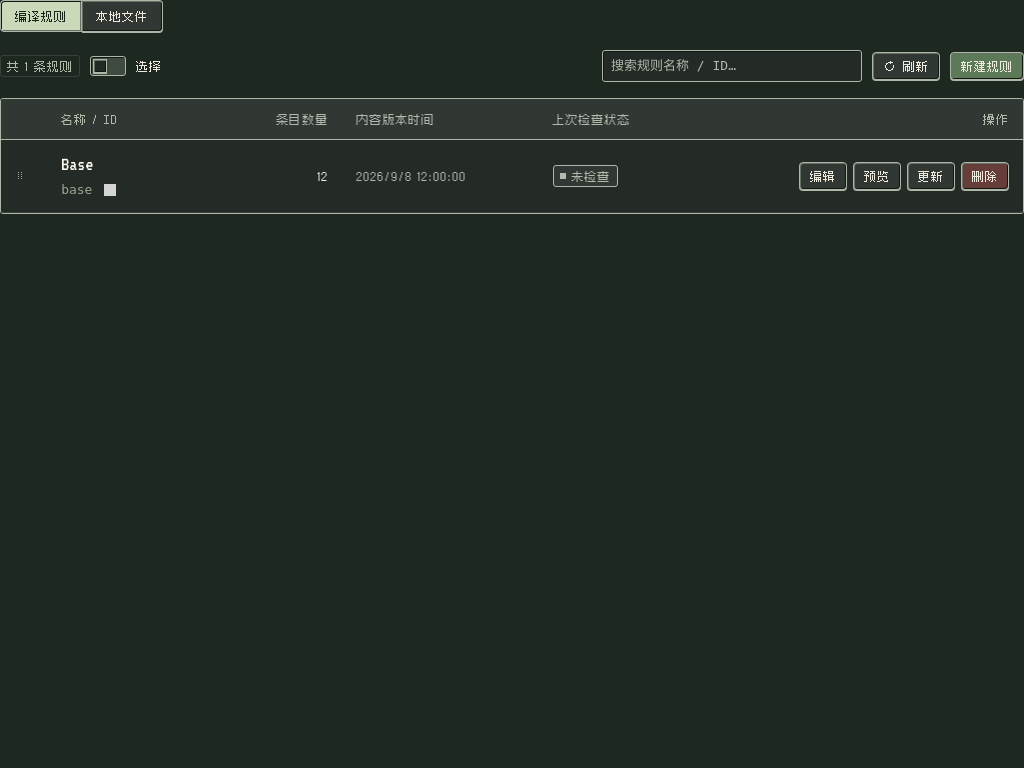
Scenario: RulesView › preserves preprocess and tags when updating a rule
The image size is (1024, 768).
Step 1. Click the button "编辑" → (823, 176), box [799,162,847,190]
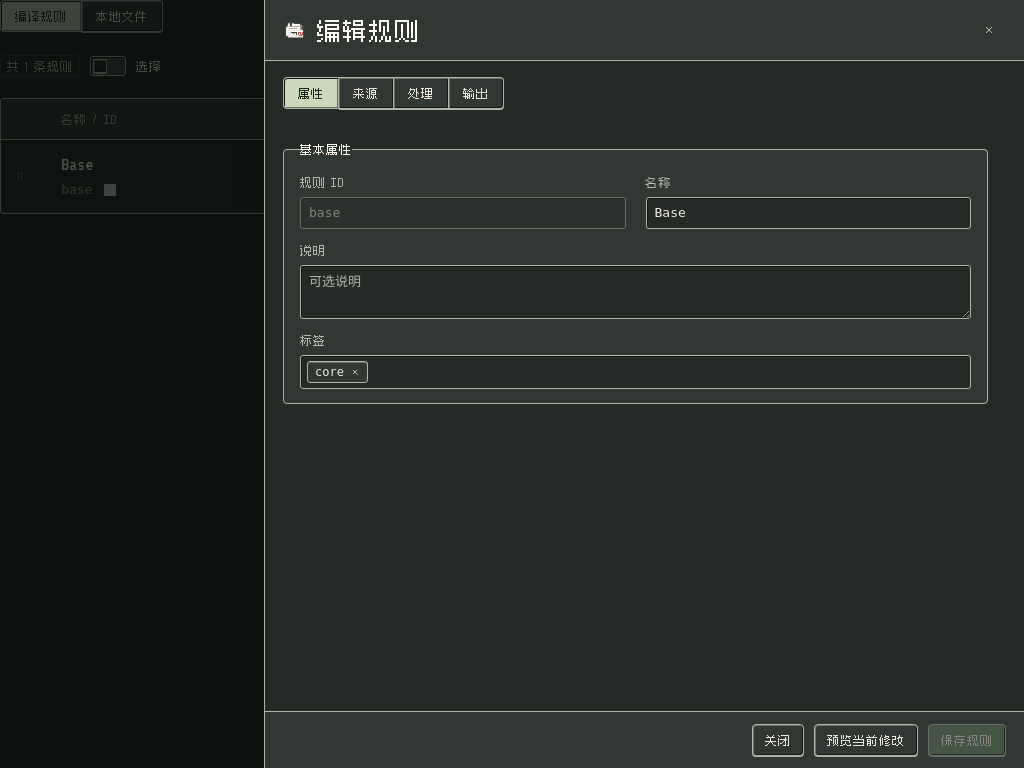
Step 2. Replace the text in the field labelled "名称" with "Base Updated" → (808, 213), box [646,197,971,229]
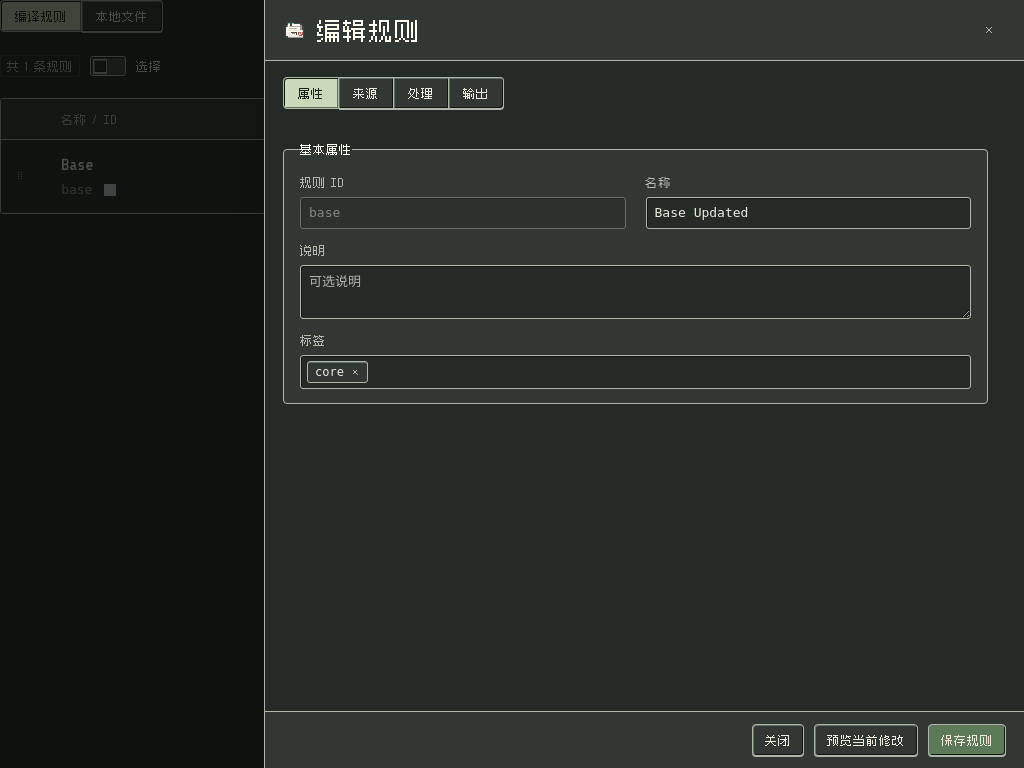
Step 3. Click the button "保存规则" → (967, 740), box [928,724,1006,756]
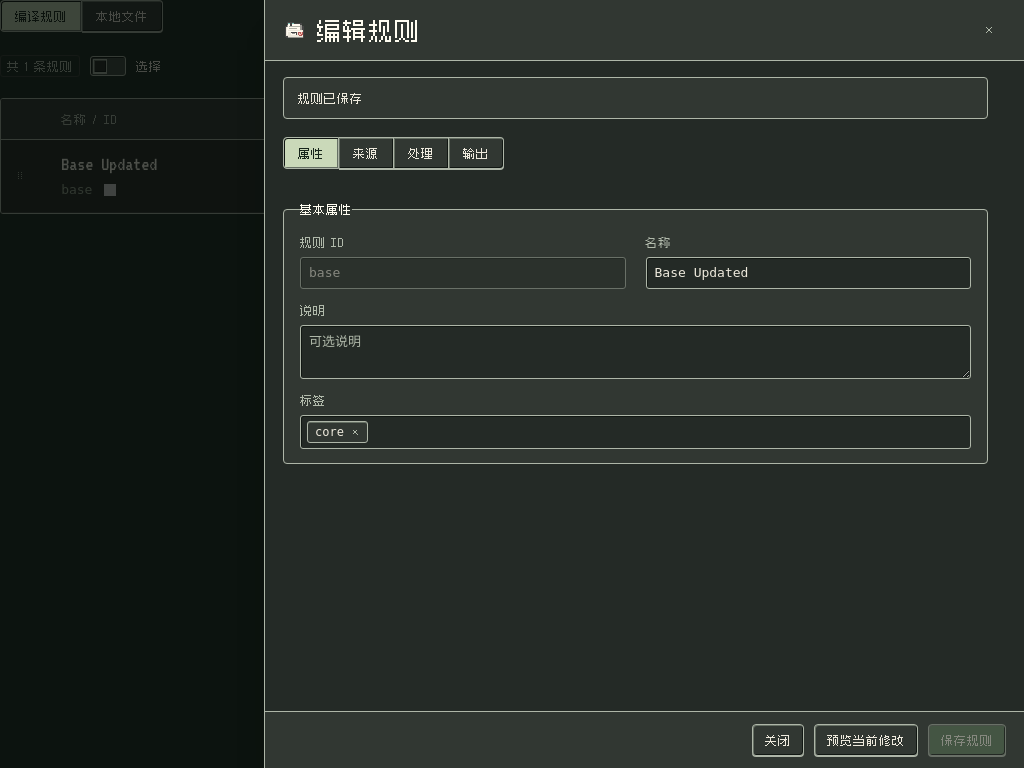
Expected: the text "规则已保存" is shown, [283,77,988,119]
